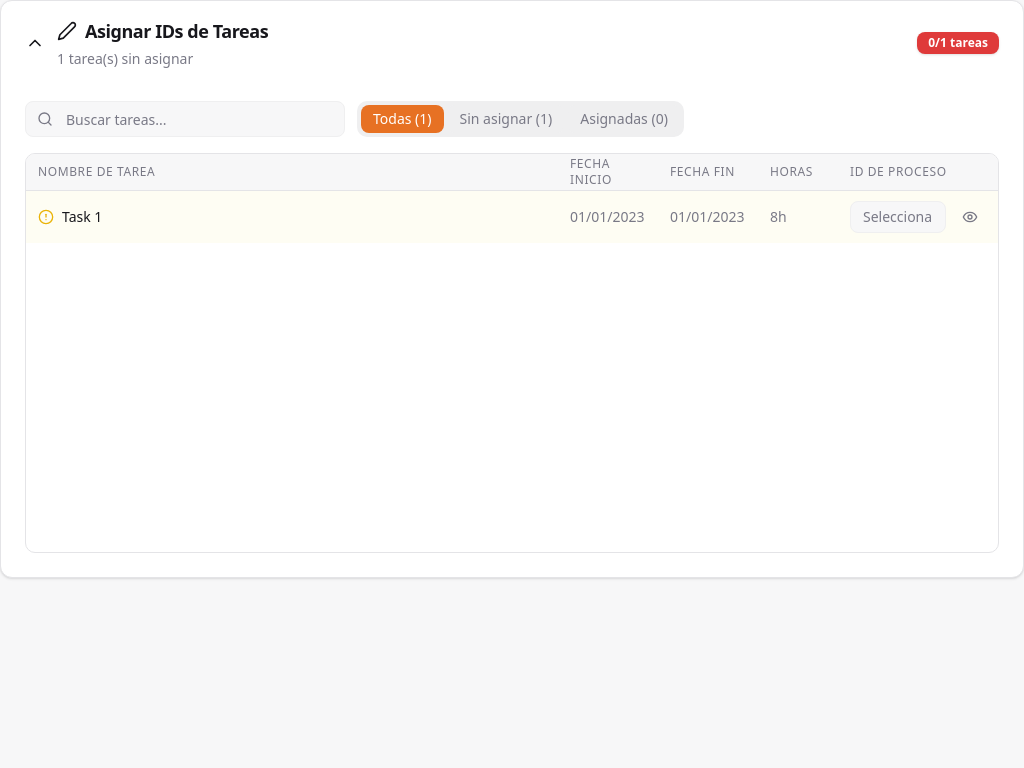
Scenario: ProcessMappingTable Integration › Create new process flow › should pass projectInfo to SQLPreviewModal and show read-only project info
What coordinates should you click on to do the following:
click the field with placeholder "Seleccionar ID..."
I would click on:
 (898, 216)
Its box is [850, 200, 946, 232].
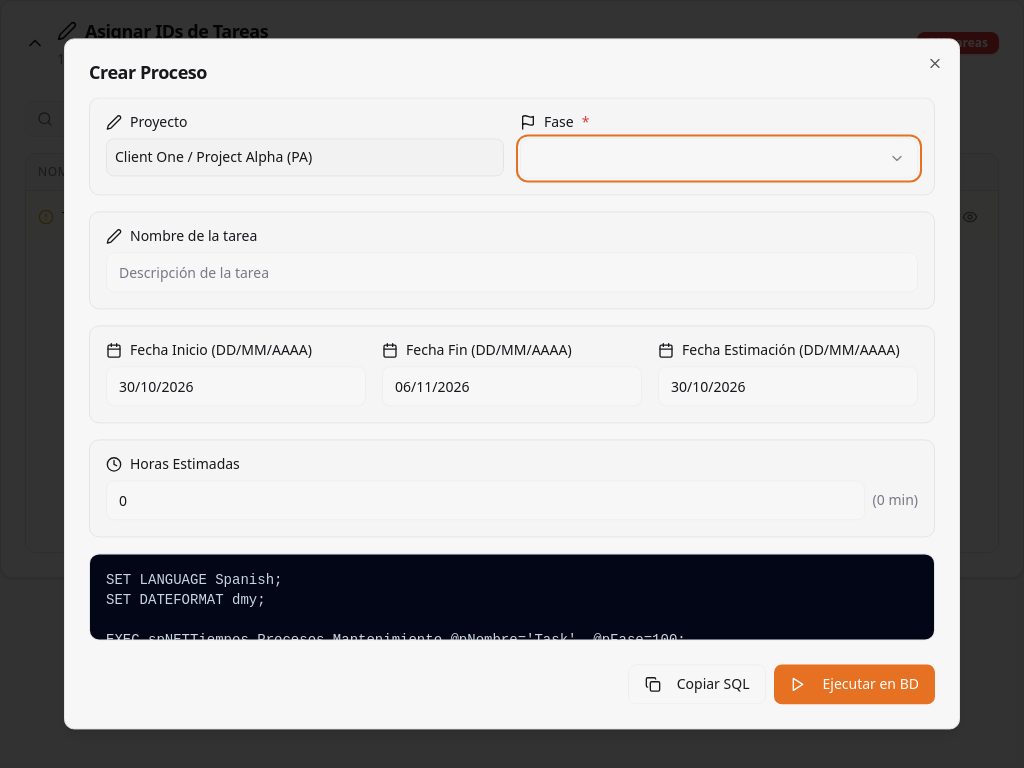
Expected: the heading "Crear Proceso" is shown, [89, 60, 207, 84]
Expected: the text "Client One / Project Alpha (PA)" is shown, [106, 138, 504, 176]
